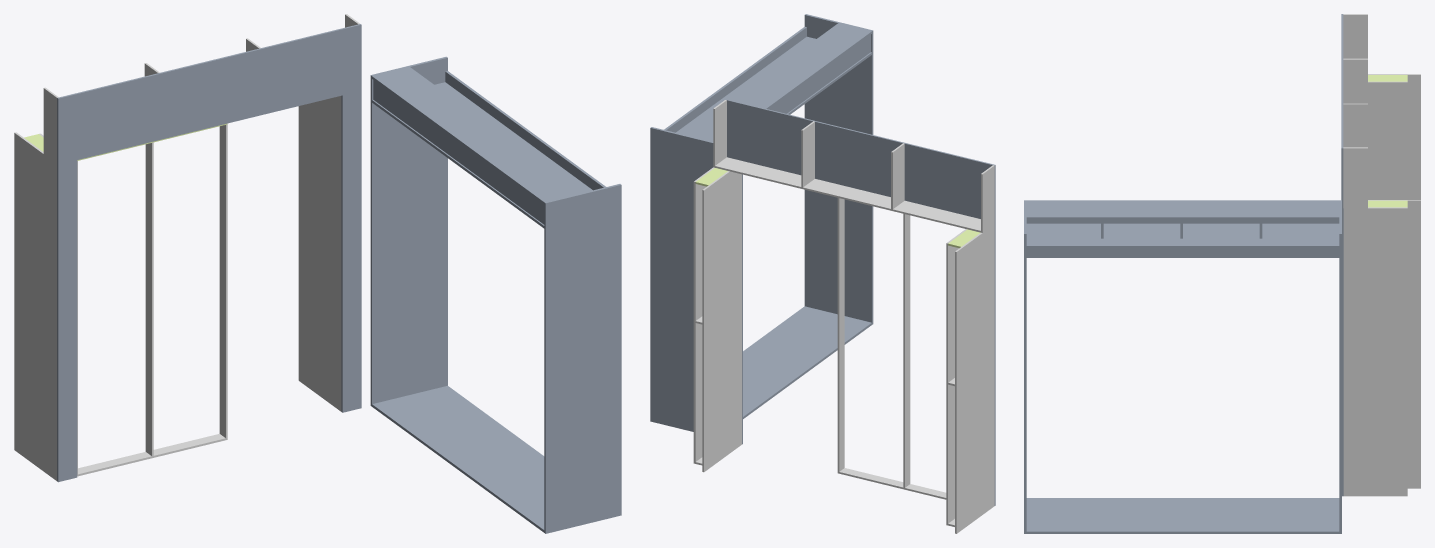
The picture shows the model from 3 angles, left to right: view 1: azimuth 30°, elevation 25°; view 2: azimuth 150°, elevation 25°; view 3: azimuth 270°, elevation 25°; orthographic projection. The views are drawn at different scales.
Parts seen in each view (by area): view 1: 立柱左侧板 (×2), 二级框架右侧板, 二级框架左侧板, 一级门楣面板, 立柱前面板 (×2), 二级框架底板, 二级门楣顶板副本, 二级门楣前面板, 背板竖隔板, 背板右侧板, 二级门楣底板副本, 二级门楣后固定板 (+2 smaller); view 2: 立柱左侧板 (×2), 一级门楣面板, 二级框架左侧板, 二级框架右侧板, 二级框架底板, 立柱右侧板1 (×2), 二级门楣顶板副本, 一级门楣底板, 背板右侧板, 背板竖隔板, 二级门楣前面板, 二级门楣后固定板 (+7 smaller); view 3: 立柱右侧板1 (×2), 二级框架底板, 二级门楣底板副本, 二级门楣顶板副本, 立柱左侧板 (×2), 二级门楣后固定板, 一级门楣右侧板2, 二级门楣前面板, 一级门楣竖隔板1, 一级门楣左侧板2, 一级门楣竖隔板2, 二级框架左侧板 (+3 smaller).
Part boxes in pixels (box(x1,y1,x2,y2)): 立柱左侧板 (×2): box(14, 96, 341, 480); 二级框架右侧板: box(544, 184, 621, 533); 二级框架左侧板: box(370, 56, 447, 406); 一级门楣面板: box(57, 24, 361, 164); 立柱前面板 (×2): box(57, 91, 361, 482); 二级框架底板: box(372, 385, 544, 532); 二级门楣顶板副本: box(372, 67, 581, 204); 二级门楣前面板: box(373, 80, 544, 224); 背板竖隔板: box(145, 142, 153, 456); 背板右侧板: box(219, 124, 227, 437); 二级门楣底板副本: box(372, 82, 592, 228); 二级门楣后固定板: box(445, 71, 605, 190); 立柱左侧板 (×2): box(702, 171, 994, 533); 一级门楣面板: box(725, 99, 995, 223); 二级框架左侧板: box(650, 127, 713, 431); 二级框架右侧板: box(804, 14, 873, 324); 二级框架底板: box(743, 306, 871, 418); 立柱右侧板1 (×2): box(693, 167, 966, 525); 二级门楣顶板副本: box(686, 23, 871, 141); 一级门楣底板: box(715, 157, 980, 232); 背板右侧板: box(837, 198, 844, 471); 背板竖隔板: box(903, 214, 910, 487); 二级门楣前面板: box(769, 34, 870, 113); 二级门楣后固定板: box(664, 26, 806, 132); 立柱右侧板1 (×2): box(1343, 81, 1407, 496); 二级框架底板: box(1026, 498, 1339, 533); 二级门楣底板副本: box(1026, 223, 1339, 257); 二级门楣顶板副本: box(1026, 200, 1339, 219); 立柱左侧板 (×2): box(1368, 74, 1420, 488); 二级门楣后固定板: box(1026, 245, 1339, 255); 一级门楣右侧板2: box(1343, 147, 1367, 208); 二级门楣前面板: box(1026, 219, 1339, 223); 一级门楣竖隔板1: box(1343, 58, 1367, 103); 一级门楣左侧板2: box(1343, 14, 1367, 58); 一级门楣竖隔板2: box(1343, 103, 1367, 147); 二级框架左侧板: box(1339, 200, 1341, 533).
Bounding box in the file's own units: 3.07 × 2.9 × 3.
